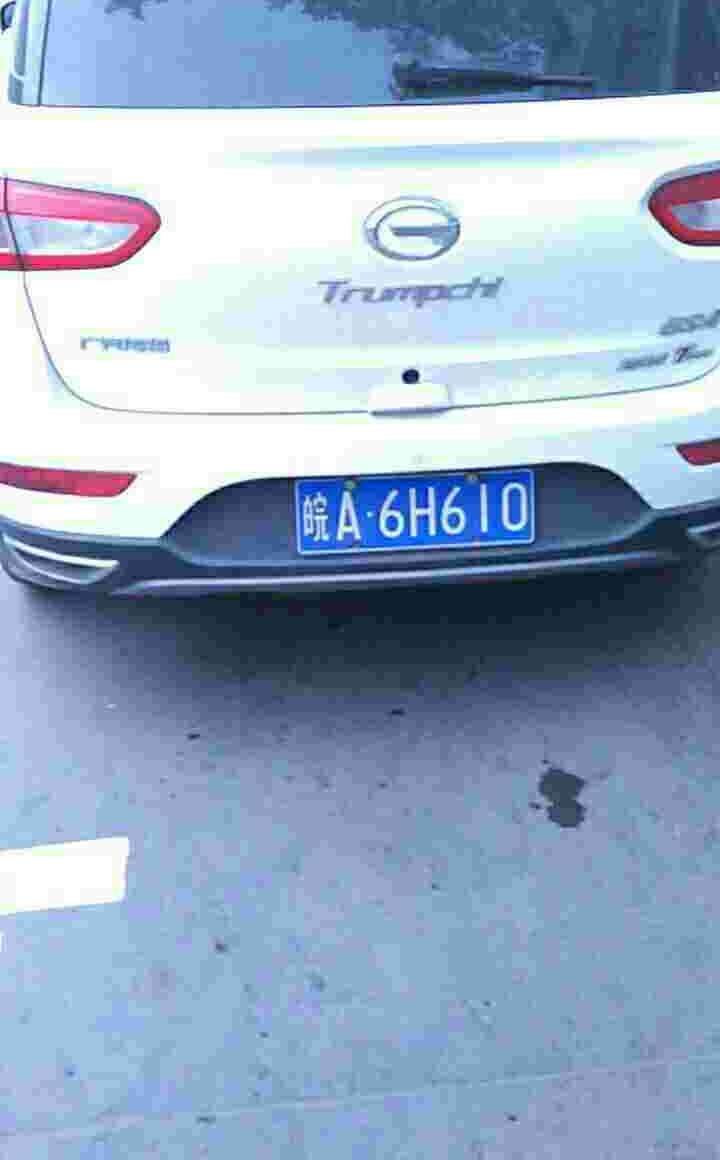license_plate: (292, 465, 546, 559)
